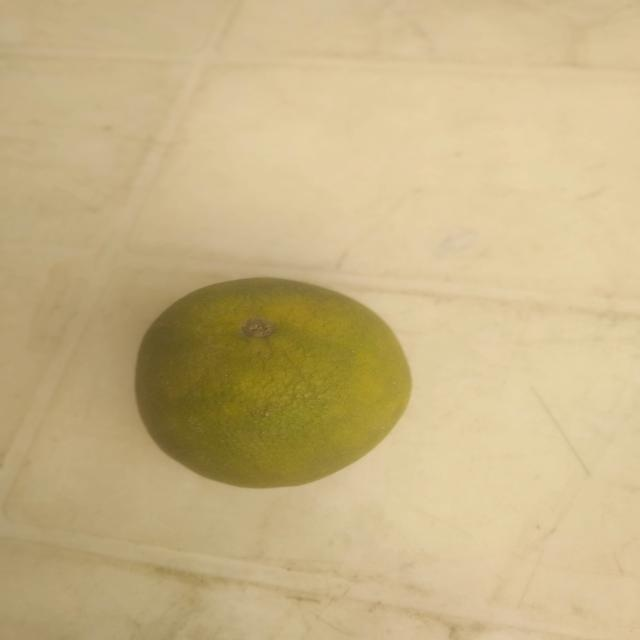agrume: (100, 251, 444, 494)
